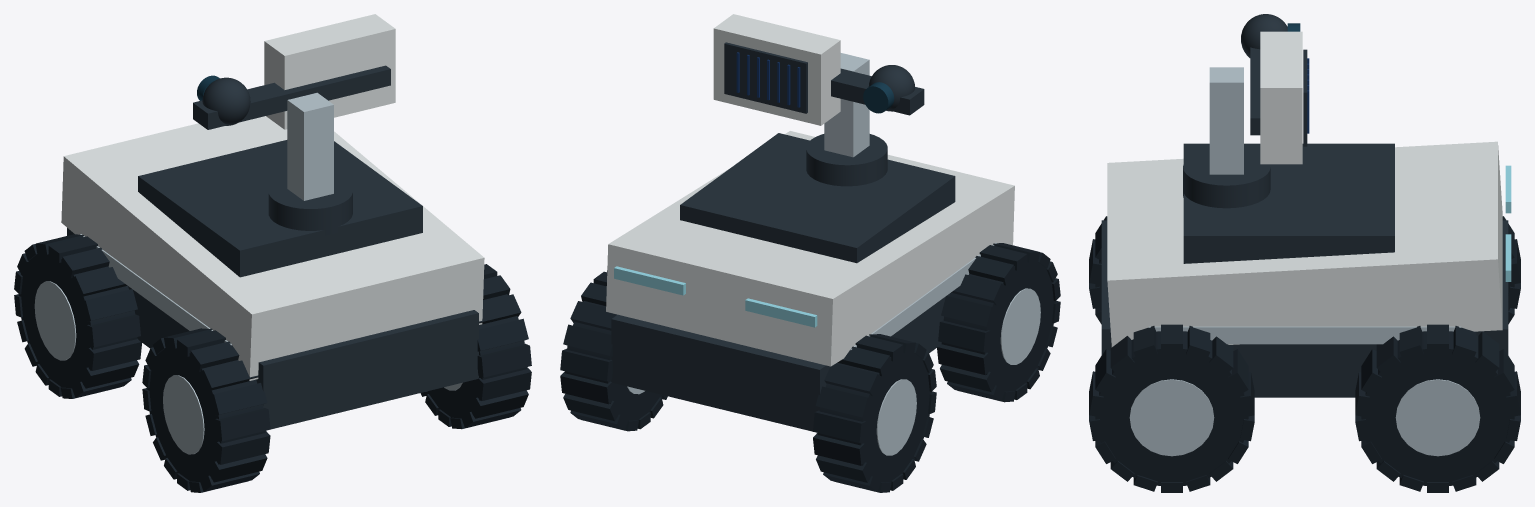
The model's file is rover.glb.
The picture shows the model from 3 angles, left to right: view 1: azimuth 30°, elevation 25°; view 2: azimuth 150°, elevation 25°; view 3: azimuth 270°, elevation 25°; orthographic projection. The views are drawn at different scales.
Visible parts, largest first — view 1: body, wheels, radar, camera; view 2: body, wheels, radar, camera; view 3: body, wheels, radar, camera.
Part boxes in pixels (x1,y1,x2,y2): body: [61, 116, 484, 429]; wheels: [14, 234, 531, 492]; radar: [193, 14, 395, 235]; camera: [197, 75, 250, 125]; body: [606, 131, 1014, 431]; wheels: [560, 243, 1060, 492]; radar: [713, 14, 924, 186]; camera: [863, 65, 914, 113]; body: [1101, 141, 1511, 397]; wheels: [1089, 216, 1520, 492]; radar: [1183, 31, 1309, 208]; camera: [1241, 14, 1300, 57].
Bounding box in the file's own units: 2.37 × 2.67 × 2.76.
